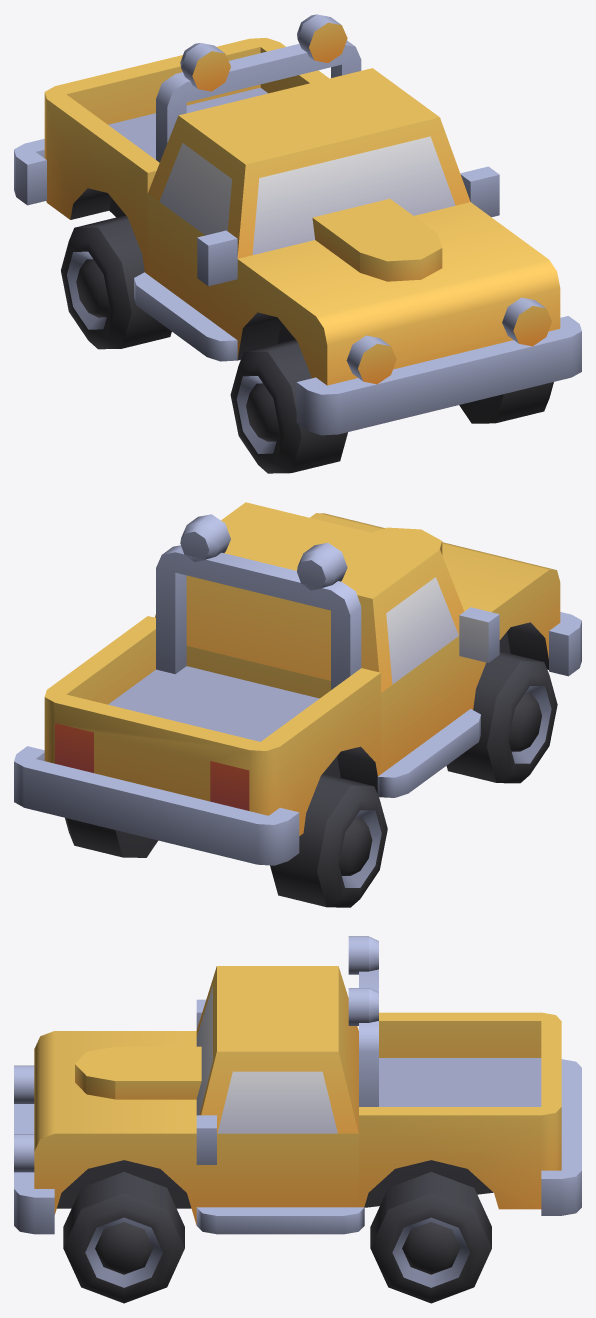
File: vehicle-truck-yellow.glb
3 renders of one model, top to bottom at view 1: azimuth 30°, elevation 25°; view 2: azimuth 150°, elevation 25°; view 3: azimuth 270°, elevation 25°, orthographic. The views are drawn at different scales.
Visible parts, largest first — view 1: body, wheel-back-right, wheel-front-right, wheel-front-left; view 2: body, wheel-back-right, wheel-front-right, wheel-back-left; view 3: body, wheel-front-left, wheel-back-left.
Boxes of the visible parts, x1,y1,x2,y2 form: body: (14, 14, 581, 435); wheel-back-right: (61, 216, 171, 349); wheel-front-right: (230, 340, 347, 473); wheel-front-left: (459, 382, 553, 423); body: (14, 502, 581, 865); wheel-back-right: (270, 774, 387, 907); wheel-front-right: (446, 651, 557, 783); wheel-back-left: (65, 818, 157, 857); body: (14, 936, 581, 1234); wheel-front-left: (63, 1172, 184, 1303); wheel-back-left: (370, 1172, 491, 1303).
Size of the model in its own units: 1.5 by 1.55 by 2.8.
1 material, 1 textured.
